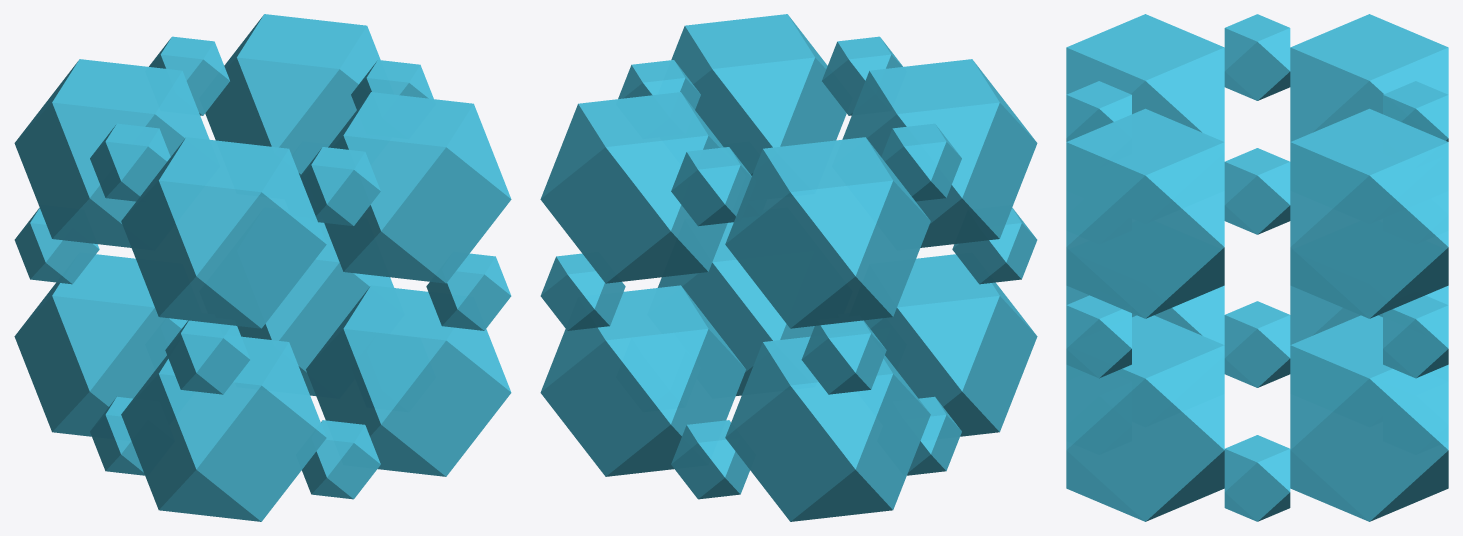
File: fractalcuboctahedron3-1.glb
3 views of the same model, side by side, from view 1: azimuth 30°, elevation 25°; view 2: azimuth 150°, elevation 25°; view 3: azimuth 270°, elevation 25° (orthographic). The views are drawn at different scales.
Size of the model in its own units: 7.2 by 7.2 by 7.2.
